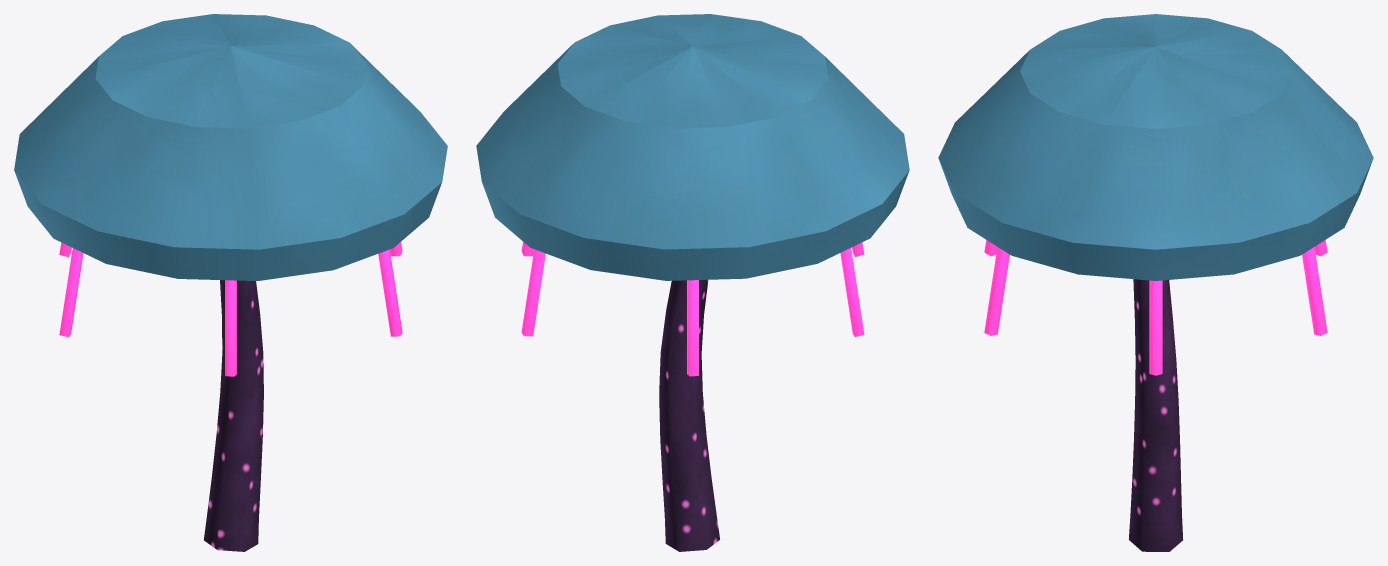
The model's file is sf_glowshroom.glb.
3 views of the same model, side by side, from view 1: azimuth 30°, elevation 25°; view 2: azimuth 150°, elevation 25°; view 3: azimuth 270°, elevation 25° (orthographic).
Visible parts, largest first — view 1: Base; view 2: Base; view 3: Base.
Boxes of the visible parts, x1,y1,x2,y2 form: Base: (14, 14, 447, 551); Base: (476, 14, 909, 551); Base: (938, 14, 1373, 551).
Size of the model in its own units: 0.64 by 0.8033 by 0.64.
3 materials, 3 textured.
